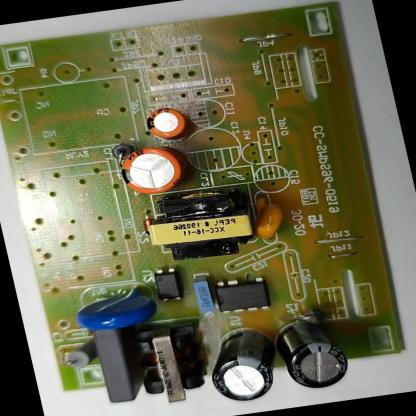Cap1: (113, 139, 190, 198)
Cap2: (141, 105, 192, 142)
Cap3: (197, 321, 289, 410)
Cap4: (270, 315, 355, 395)
MOSFET: (210, 274, 273, 318)
Mov: (67, 282, 162, 336)
Resistor: (58, 339, 101, 376)
Transformer: (141, 185, 265, 267), (125, 318, 213, 407)
